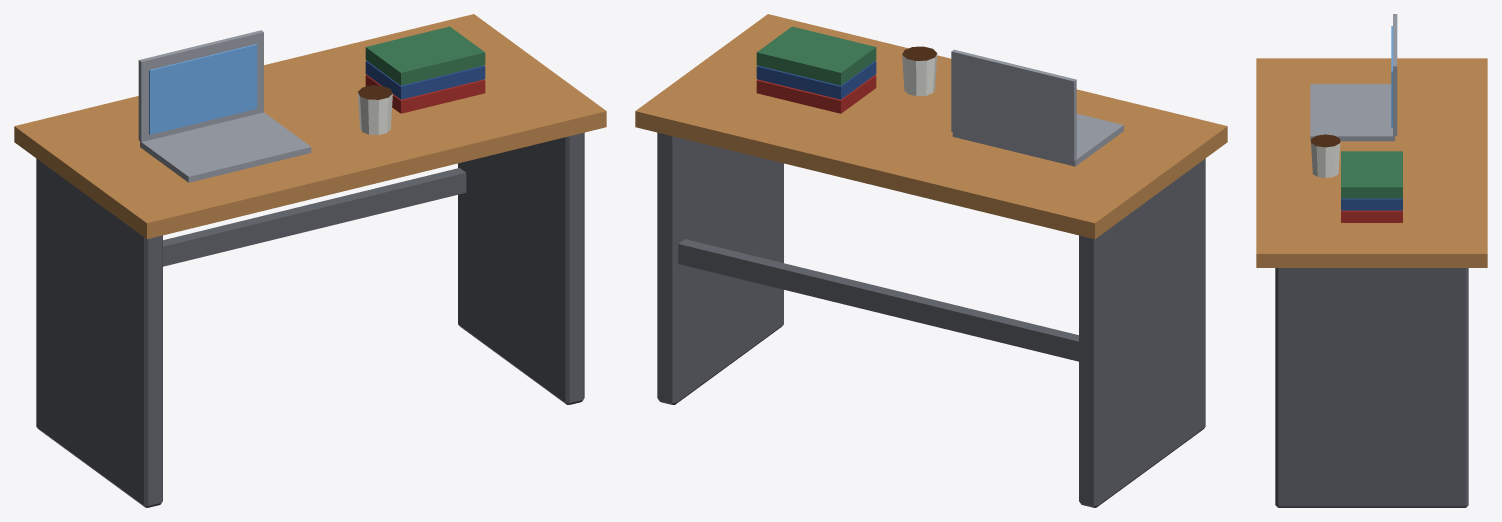
The model's file is study_desk.obj.
3 renders of one model, left to right at view 1: azimuth 30°, elevation 25°; view 2: azimuth 150°, elevation 25°; view 3: azimuth 270°, elevation 25°, orthographic. The views are drawn at different scales.
Parts seen in each view (by area): view 1: study_desk; view 2: study_desk; view 3: study_desk.
Part boxes in pixels (bbox=[...]): study_desk: bbox=[14, 14, 606, 507]; study_desk: bbox=[635, 14, 1227, 507]; study_desk: bbox=[1256, 14, 1487, 507].
Bounding box in the file's own units: 1.2 × 0.955 × 0.6.
